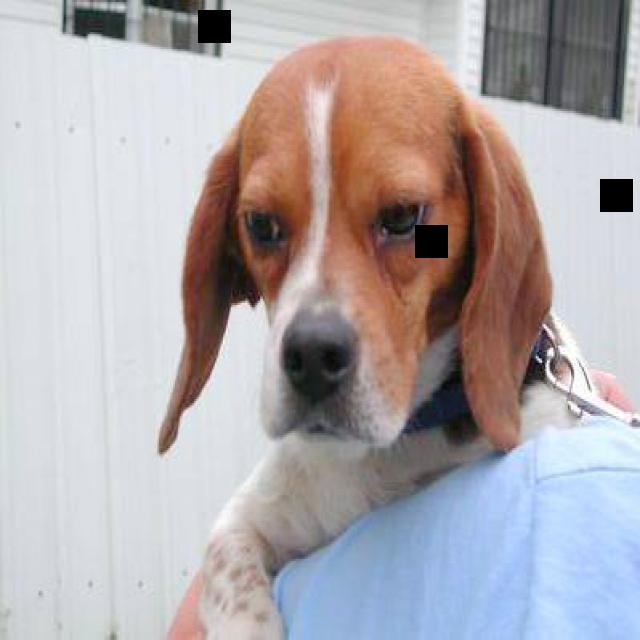adult_dog: (162, 26, 640, 640)
